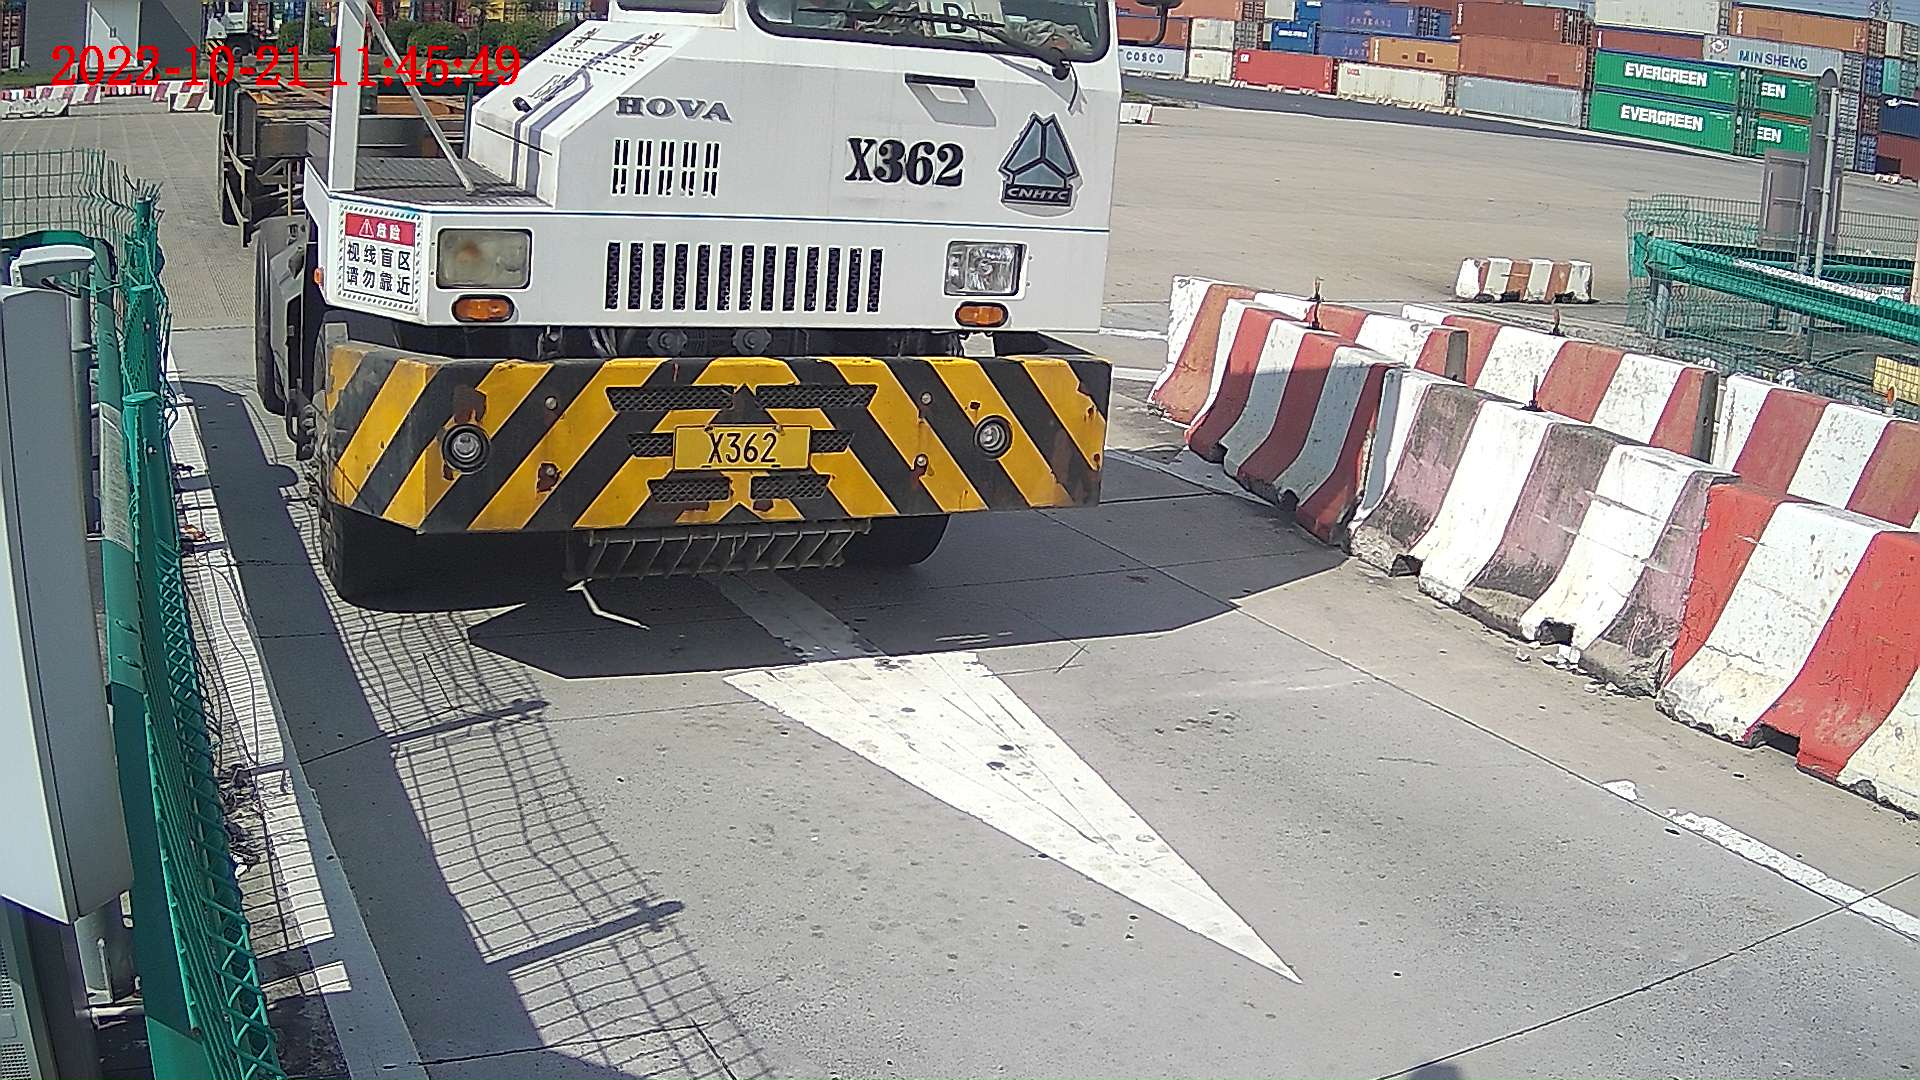head: (283, 1, 1125, 605)
plate: (676, 427, 806, 468)
